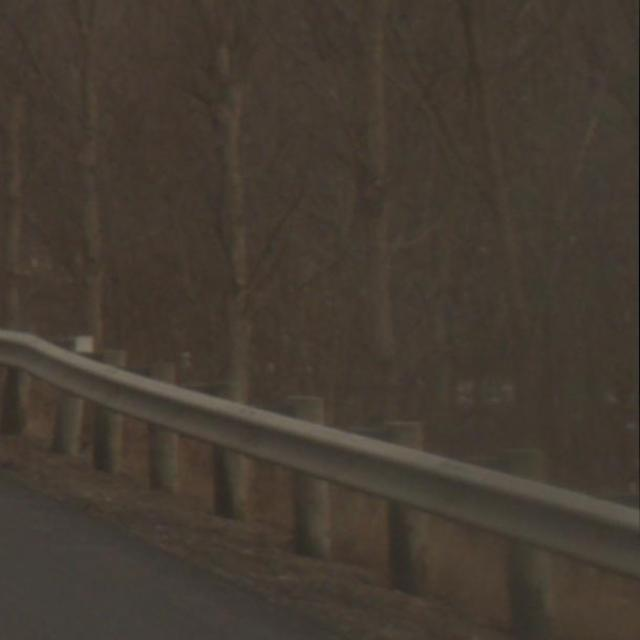Guard rail: (0, 313, 640, 640)
